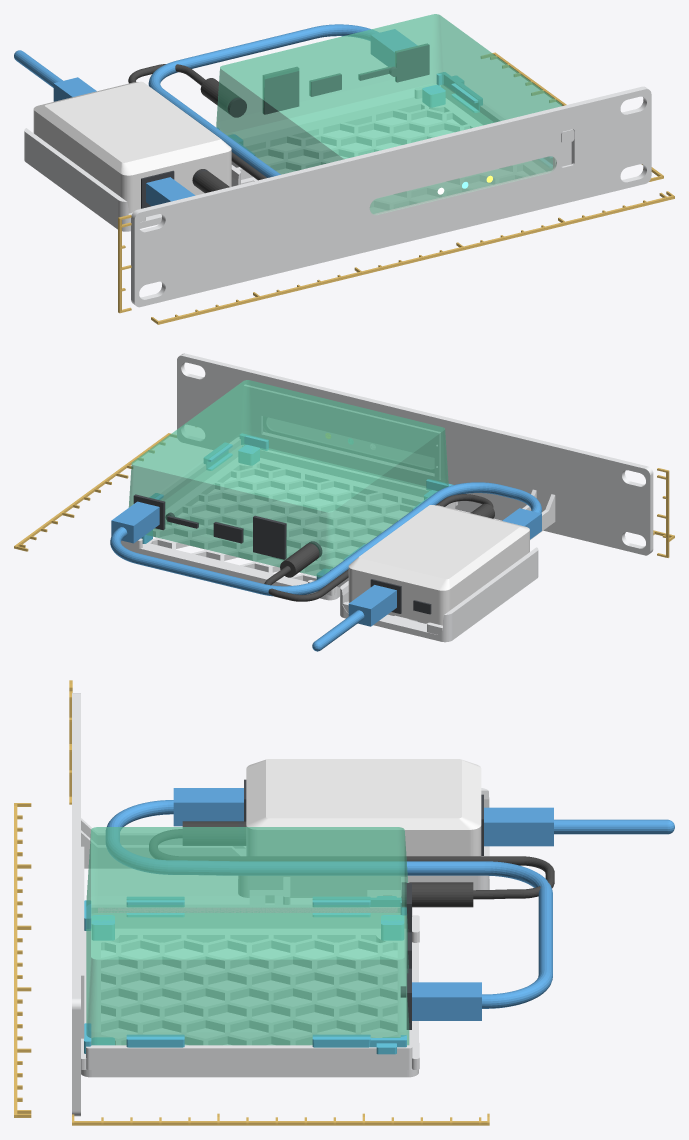
The model's file is home-assistant-green-rack-cable_friendly.glb.
The picture shows the model from 3 angles, top to bottom: view 1: azimuth 30°, elevation 25°; view 2: azimuth 150°, elevation 25°; view 3: azimuth 270°, elevation 25°; orthographic projection. The views are drawn at different scales.
Parts seen in each view (by area): view 1: White rack mount, Home Assistant Green, TP-Link TL-PD30G-M2, Green tray — standard, Internal Ethernet cable, 10 mm dimension rulers, Home Assistant Green connector faces, TP-Link cradle side walls, LED window insert, DC cable, Green retention — segmented rails + rear latch, Incoming PoE cable (+3 smaller); view 2: Home Assistant Green, White rack mount, Green tray — standard, TP-Link TL-PD30G-M2, LED shutter retainer, Internal Ethernet cable, TP-Link cradle side walls, Home Assistant Green connector faces, LED window insert, DC cable, Incoming PoE cable, Green retention — segmented rails + rear latch (+3 smaller); view 3: Home Assistant Green, Green tray — standard, TP-Link TL-PD30G-M2, Internal Ethernet cable, White rack mount, DC cable, Green retention — segmented rails + rear latch, 10 mm dimension rulers, Incoming PoE cable, TP-Link cradle side walls, Home Assistant Green connector faces, LED shutter retainer (+1 smaller).
Part boxes in pixels (x1,y1,x2,y2): White rack mount: [131, 86, 651, 307]; Home Assistant Green: [216, 14, 562, 213]; TP-Link TL-PD30G-M2: [33, 81, 231, 213]; Green tray — standard: [226, 83, 504, 170]; Internal Ethernet cable: [146, 24, 416, 206]; 10 mm dimension rulers: [118, 52, 674, 324]; Home Assistant Green connector faces: [227, 43, 429, 117]; TP-Link cradle side walls: [24, 128, 240, 224]; LED window insert: [369, 156, 556, 215]; DC cable: [128, 64, 266, 193]; Green retention — segmented rails + rear latch: [217, 72, 552, 165]; Incoming PoE cable: [14, 50, 96, 101]; Home Assistant Green: [128, 380, 448, 577]; White rack mount: [177, 353, 653, 587]; Green tray — standard: [121, 437, 457, 600]; TP-Link TL-PD30G-M2: [348, 505, 529, 625]; LED shutter retainer: [244, 385, 440, 479]; Internal Ethernet cable: [110, 482, 541, 596]; TP-Link cradle side walls: [340, 547, 538, 636]; Home Assistant Green connector faces: [133, 494, 322, 559]; LED window insert: [263, 417, 433, 472]; DC cable: [264, 494, 494, 601]; Incoming PoE cable: [312, 585, 396, 651]; Green retention — segmented rails + rear latch: [141, 433, 452, 579]; Home Assistant Green: [86, 827, 409, 1045]; Green tray — standard: [81, 905, 419, 1077]; TP-Link TL-PD30G-M2: [246, 759, 481, 856]; Internal Ethernet cable: [106, 788, 552, 1020]; White rack mount: [72, 693, 407, 1116]; DC cable: [149, 821, 554, 907]; Green retention — segmented rails + rear latch: [84, 896, 406, 1054]; 10 mm dimension rulers: [14, 680, 489, 1125]; Incoming PoE cable: [484, 807, 674, 846]; TP-Link cradle side walls: [238, 788, 489, 890]; Home Assistant Green connector faces: [400, 882, 411, 1029]; LED shutter retainer: [81, 846, 84, 1038].
Size of what is drawn, in the model's own units: 268 by 44.45 by 227.
